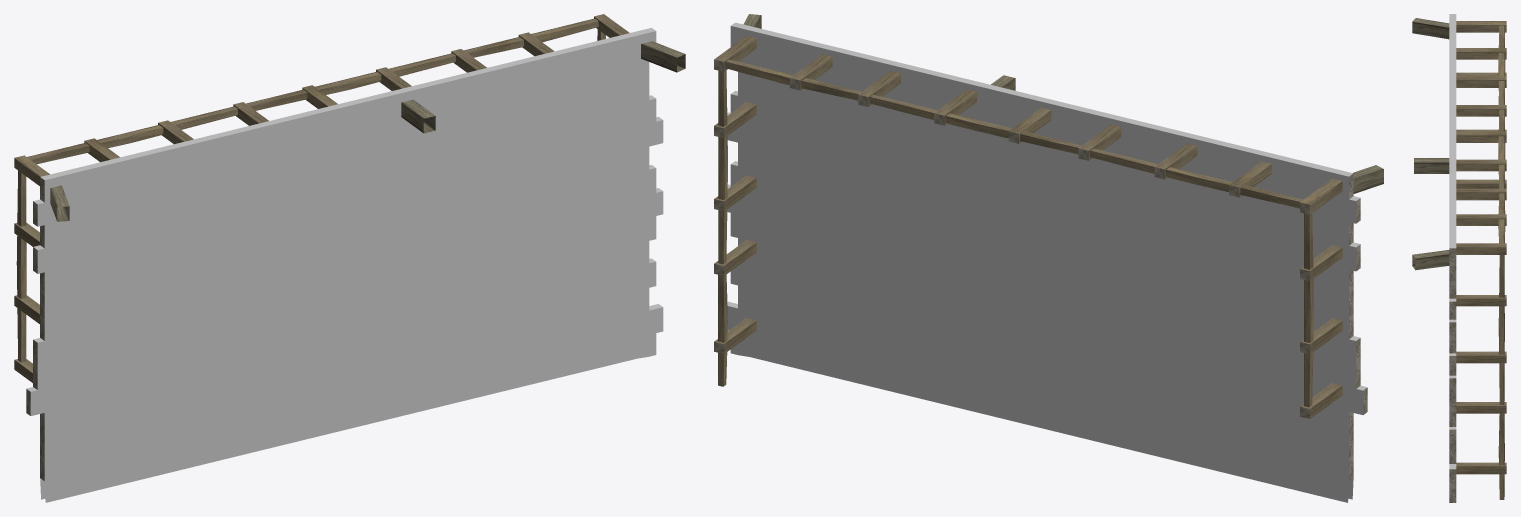
Rendered from Pirate_Bar_Balcony_B.fbx.
3 renders of one model, left to right at view 1: azimuth 30°, elevation 25°; view 2: azimuth 150°, elevation 25°; view 3: azimuth 270°, elevation 25°, orthographic. The views are drawn at different scales.
Visible parts, largest first — view 1: Pirate_Bar_Balcony_B; view 2: Pirate_Bar_Balcony_B; view 3: Pirate_Bar_Balcony_B.
Part boxes in pixels (x1=…): Pirate_Bar_Balcony_B: x1=14, y1=14, x2=685, y2=502; Pirate_Bar_Balcony_B: x1=714, y1=14, x2=1383, y2=502; Pirate_Bar_Balcony_B: x1=1412, y1=14, x2=1506, y2=502.
Size of the model in its own units: 14.6 by 7.25 by 2.4.
